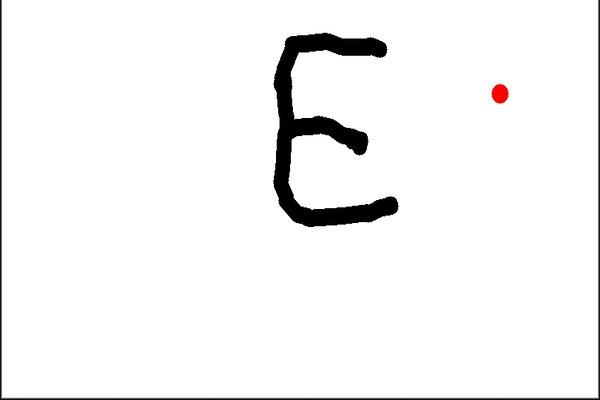E: (265, 28, 408, 234)
